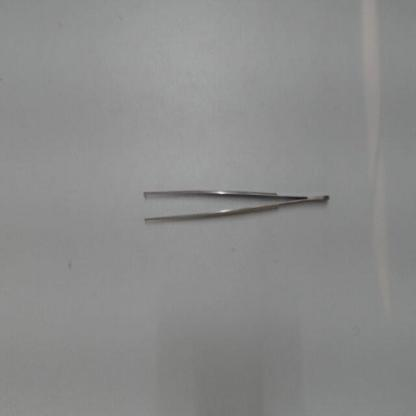Gillies Toothed Dissector: (134, 185, 334, 234)
